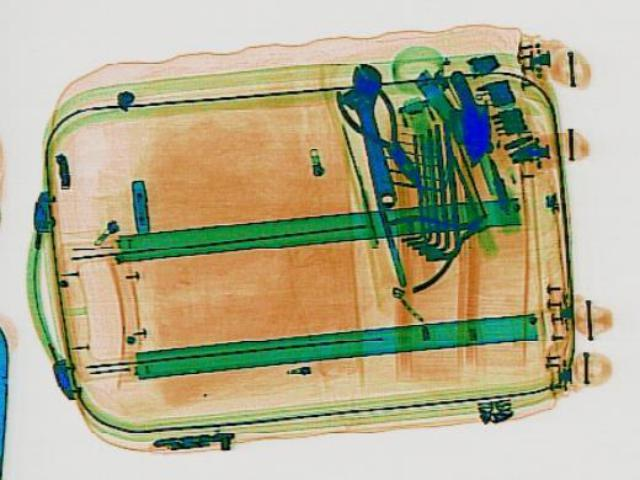Pliers: (359, 188, 516, 292), (325, 76, 443, 192)
Wrench: (336, 59, 410, 209)
